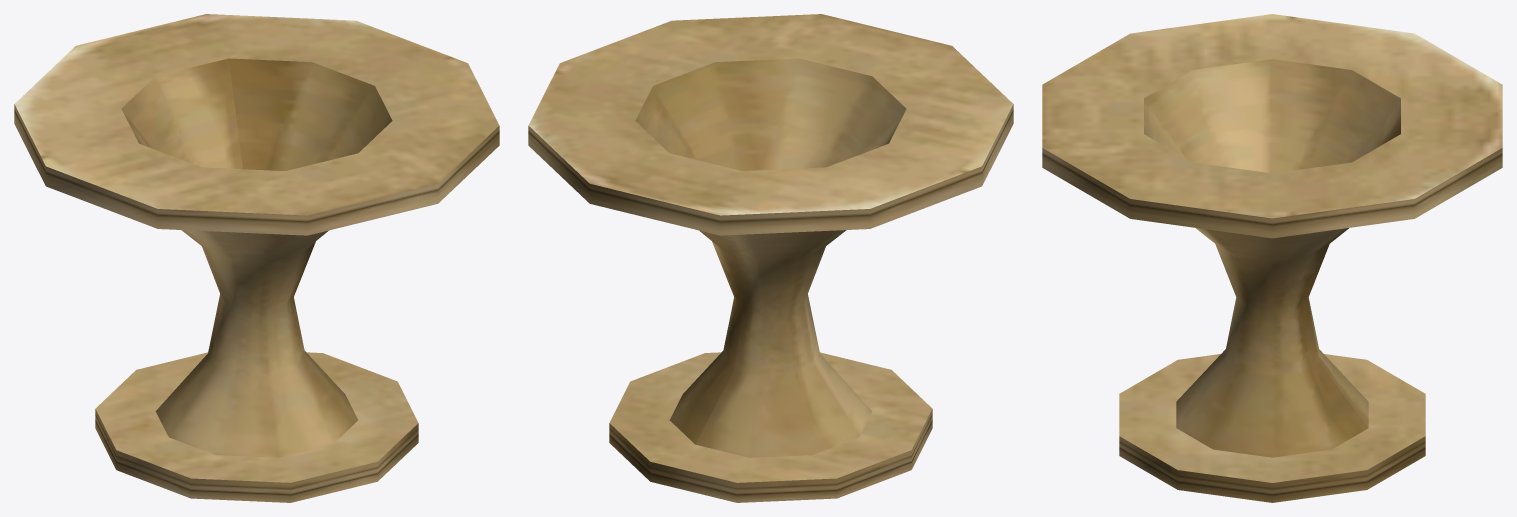
Rendered from frn_tato_vase_s01_l0.fbx.
The picture shows the model from 3 angles, left to right: view 1: azimuth 30°, elevation 25°; view 2: azimuth 150°, elevation 25°; view 3: azimuth 270°, elevation 25°; orthographic projection.
Visible parts, largest first — view 1: mesh_node; view 2: mesh_node; view 3: mesh_node.
Boxes of the visible parts, box(x1,y1,x2,y2) form: mesh_node: box(14, 14, 499, 502); mesh_node: box(528, 14, 1013, 502); mesh_node: box(1042, 14, 1502, 502).
Bounding box in the file's own units: 0.637 × 0.4627 × 0.6058.
1 material, 1 textured.
